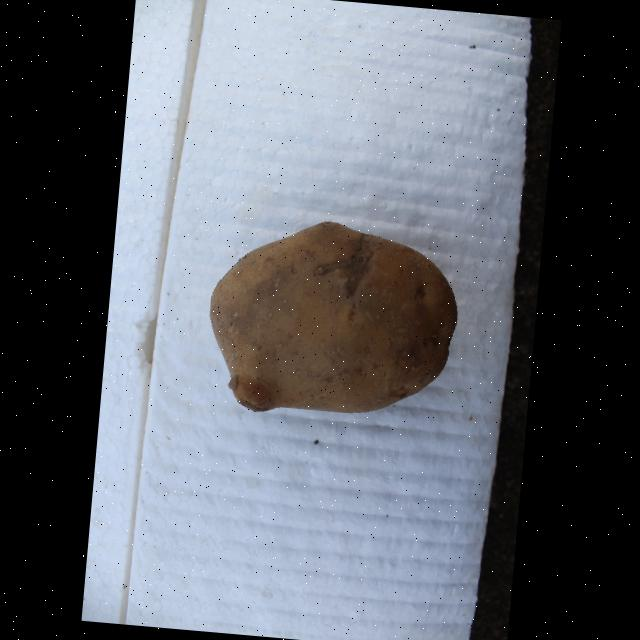Diseased-fungal potato: (193, 208, 464, 437)
